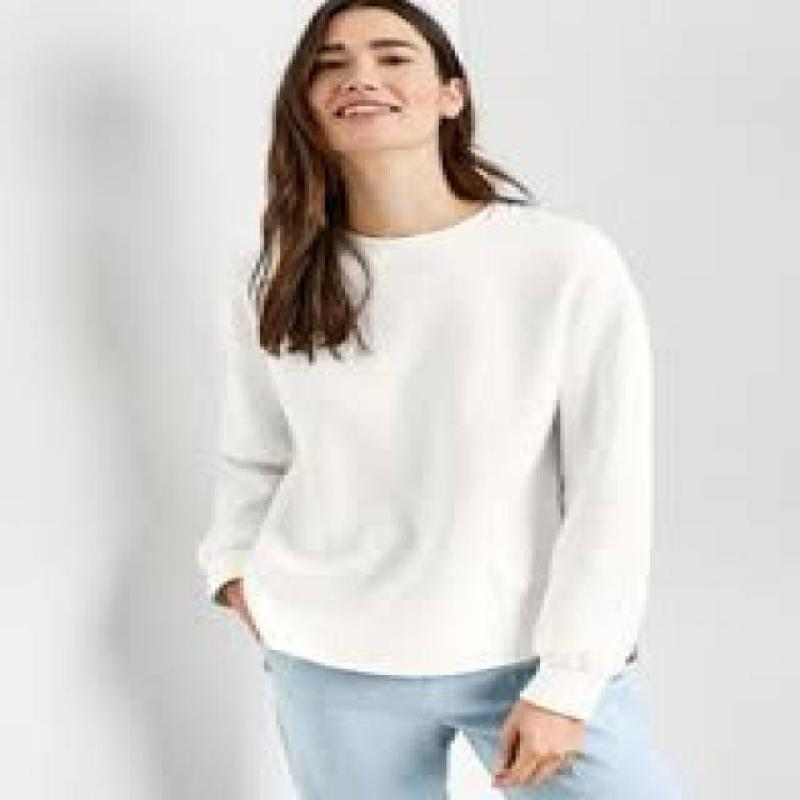sweater: (196, 211, 657, 724)
trousers: (266, 643, 703, 800)
